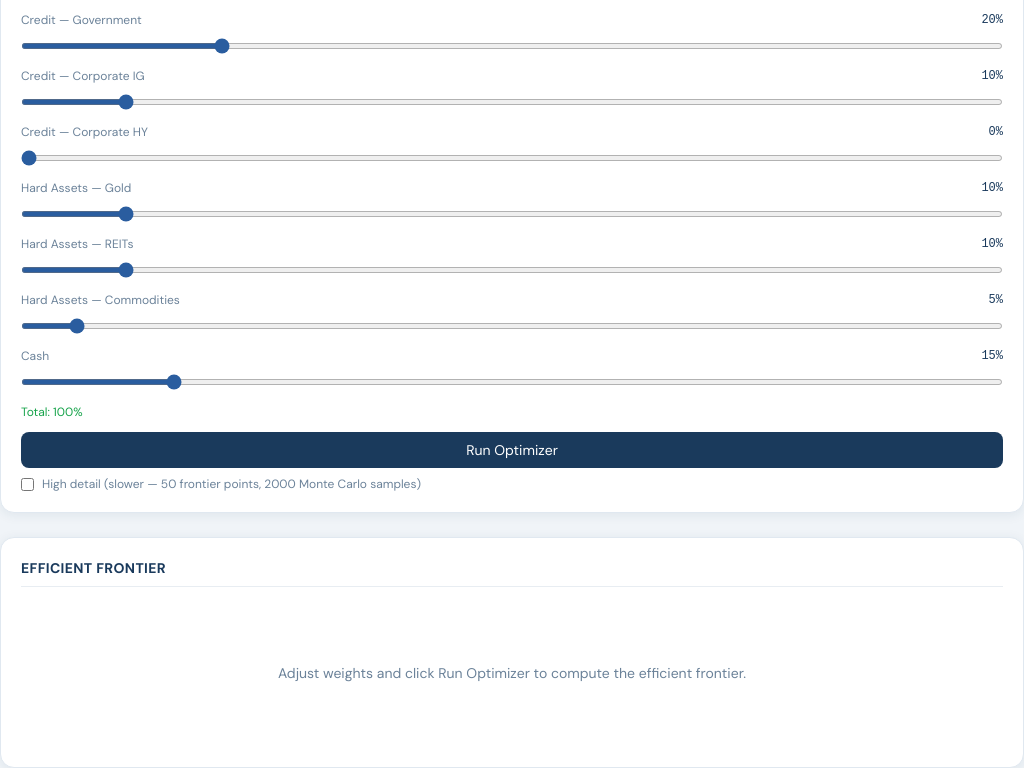
Test: PortfolioPage › loads optimizer output and re-runs on button click
(page scrolled)
Expected: the heading "Efficient Frontier" is shown, [21,558,1003,587]
Click the button "Run Optimizer".
click(512, 450)  # box [21,432,1003,468]
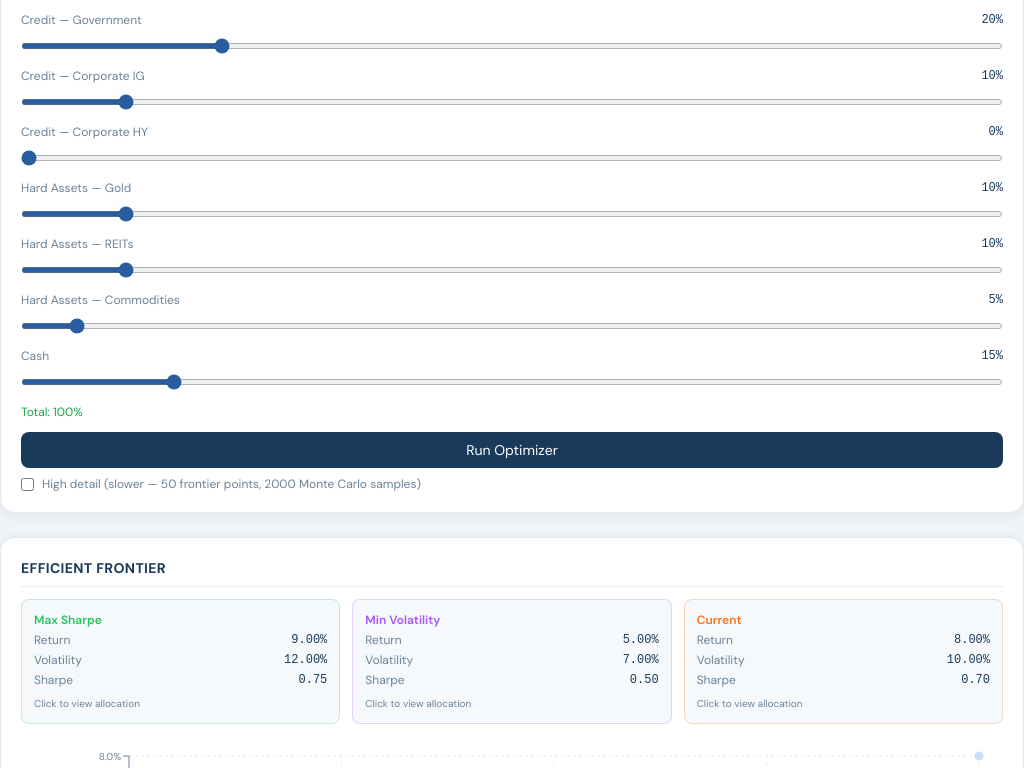
Expected: the text "Min Volatility" is shown, [365,612,440,628]
